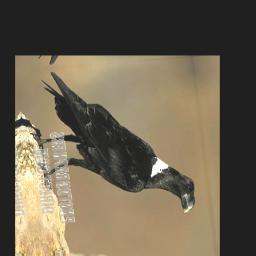Crow: (23, 60, 198, 226)
